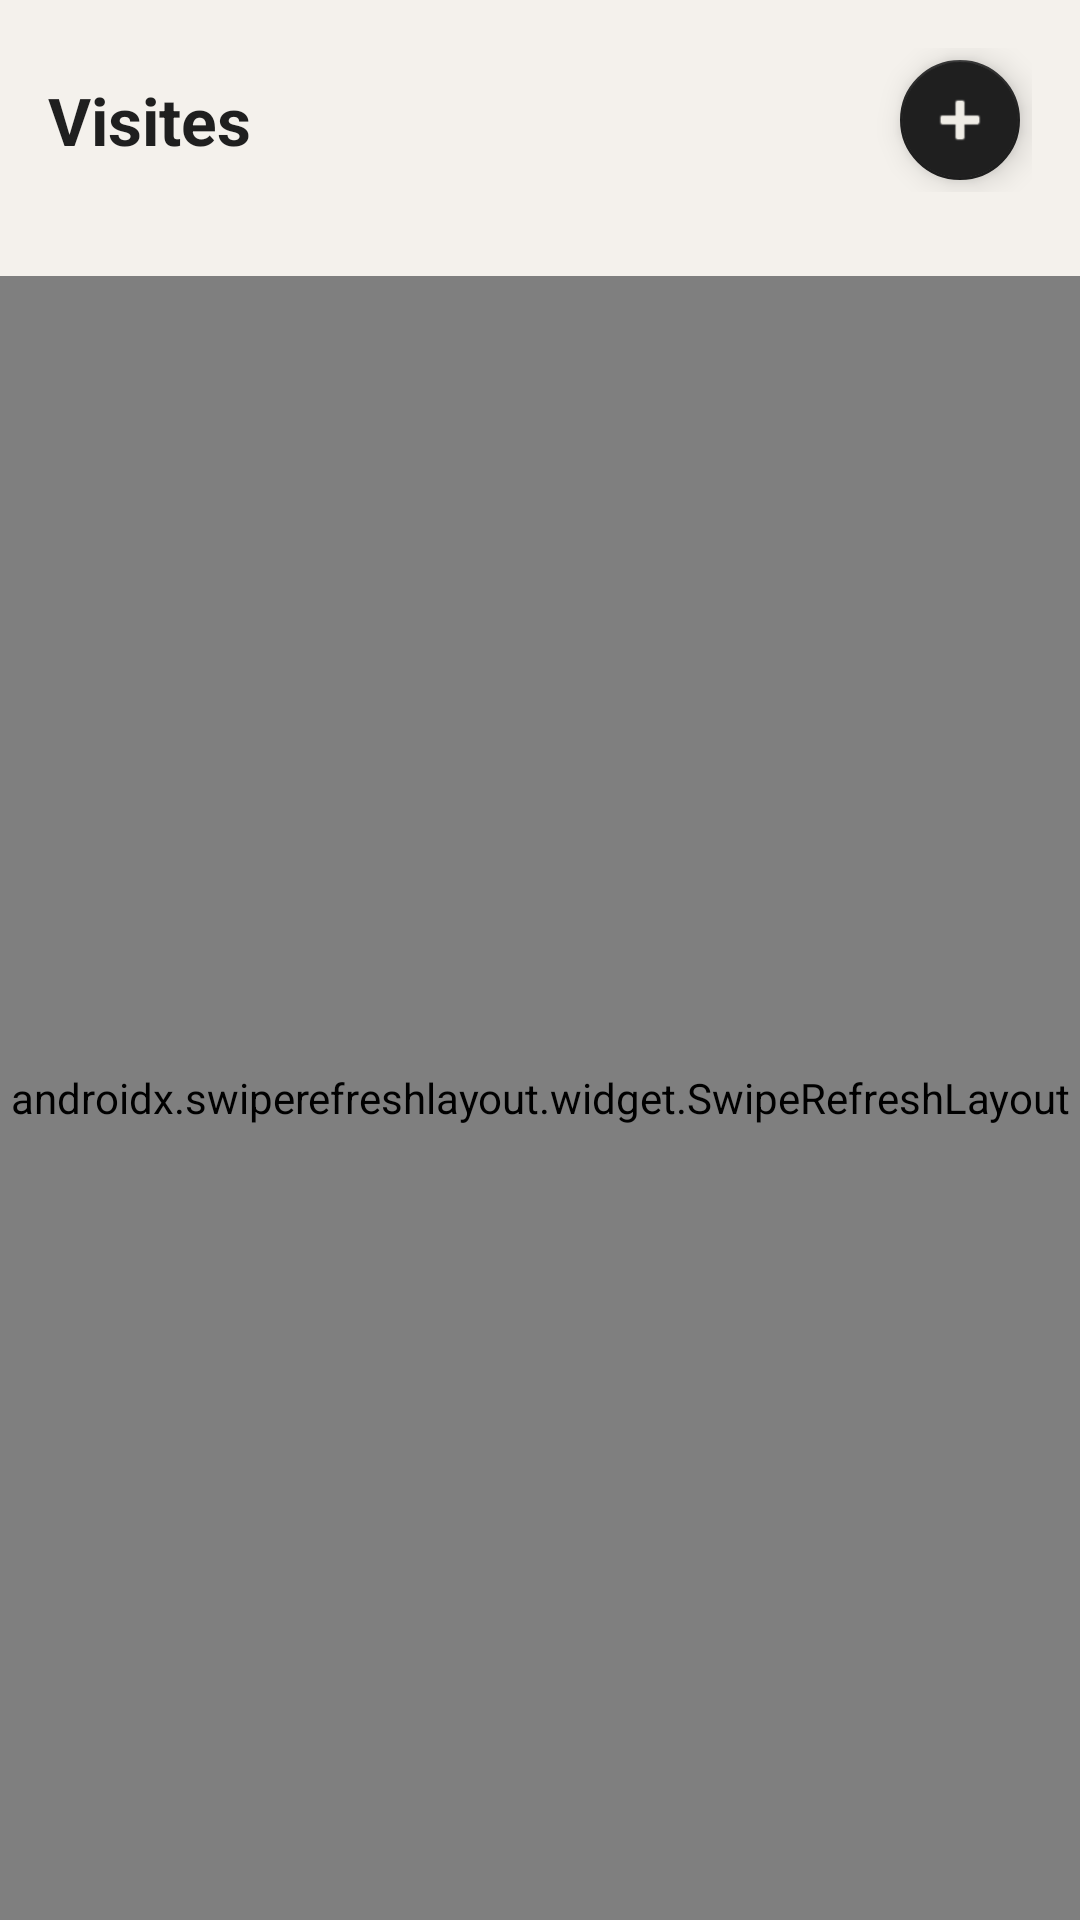

Icon click points for this 1080w x 1920h phone screenshot, format (x=x, y=y):
add: (x=961, y=120)
